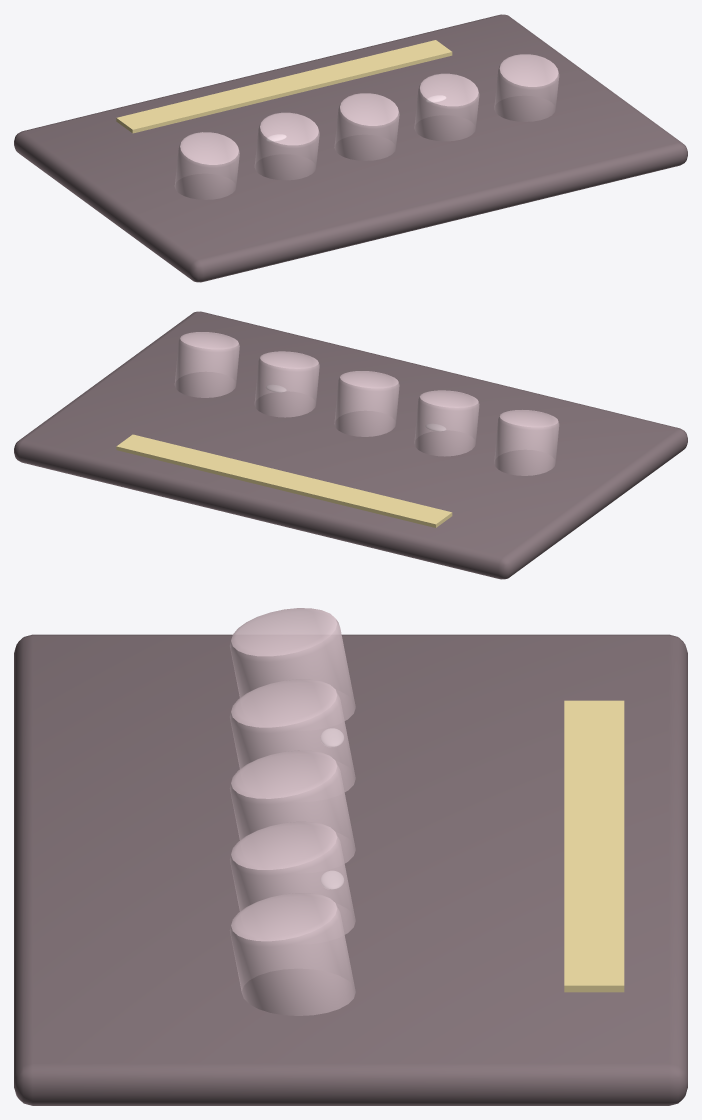
File: set-cherry-blossom.glb
3 views of the same model, one above another, from view 1: azimuth 30°, elevation 25°; view 2: azimuth 150°, elevation 25°; view 3: azimuth 270°, elevation 25° (orthographic). The views are drawn at different scales.
Visible parts, largest first — view 1: sakura_VelvetCard, sakura_GoldBar, sakura_Tip_1, sakura_Tip_3, sakura_Tip_0, sakura_Tip_2, sakura_Tip_4; view 2: sakura_VelvetCard, sakura_GoldBar, sakura_Tip_3, sakura_Tip_1, sakura_Tip_2, sakura_Tip_0, sakura_Tip_4; view 3: sakura_VelvetCard, sakura_GoldBar, sakura_Tip_4, sakura_Tip_1, sakura_Tip_0, sakura_Tip_2, sakura_Tip_3.
Part boxes in pixels (x1,y1,x2,y2): sakura_VelvetCard: (14, 14, 687, 282); sakura_GoldBar: (116, 40, 452, 133); sakura_Tip_1: (254, 112, 319, 180); sakura_Tip_3: (414, 73, 479, 141); sakura_Tip_0: (174, 132, 239, 199); sakura_Tip_2: (334, 93, 399, 160); sakura_Tip_4: (494, 54, 559, 121); sakura_VelvetCard: (14, 311, 687, 579); sakura_GoldBar: (116, 434, 452, 527); sakura_Tip_3: (254, 351, 319, 417); sakura_Tip_1: (414, 390, 479, 456); sakura_Tip_2: (334, 371, 399, 436); sakura_Tip_0: (494, 410, 559, 475); sakura_Tip_4: (174, 332, 239, 397); sakura_VelvetCard: (14, 634, 687, 1105); sakura_GoldBar: (564, 700, 624, 992); sakura_Tip_4: (229, 893, 355, 1015); sakura_Tip_1: (230, 679, 355, 791); sakura_Tip_0: (230, 608, 355, 720); sakura_Tip_2: (229, 750, 355, 863); sakura_Tip_3: (230, 821, 355, 934).
Bounding box in the file's own units: 0.28 × 0.038 × 0.18.
